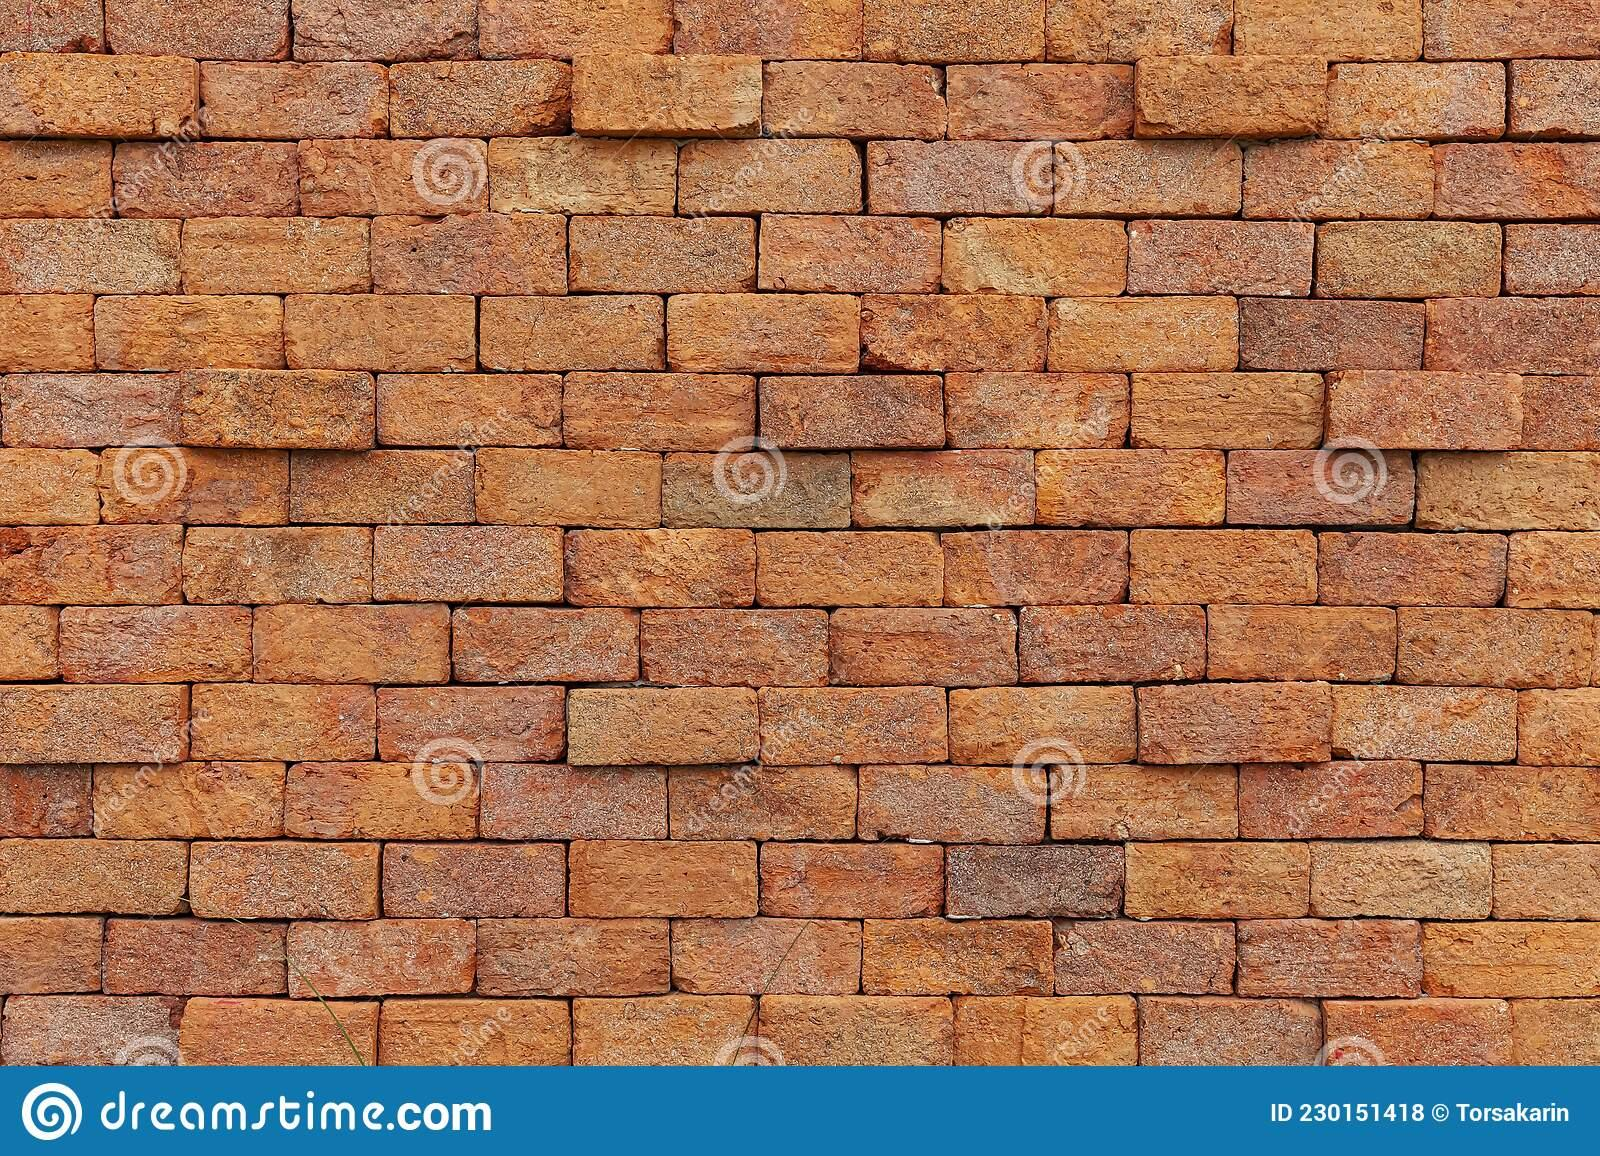brick: (1138, 678, 1330, 765), (1399, 608, 1599, 689), (252, 603, 448, 684), (371, 215, 566, 296), (0, 52, 195, 133), (1138, 55, 1328, 137), (568, 687, 759, 767), (1129, 373, 1325, 451), (563, 370, 755, 449), (476, 447, 662, 529), (1329, 371, 1523, 449), (179, 370, 370, 448), (757, 215, 942, 296), (58, 605, 252, 682), (476, 918, 670, 995), (489, 137, 677, 216), (571, 52, 761, 130), (1, 526, 183, 608), (831, 607, 1017, 687), (565, 528, 757, 605), (1239, 919, 1424, 998), (286, 294, 473, 373), (642, 610, 830, 688), (481, 762, 668, 841), (1243, 142, 1434, 219), (858, 293, 1048, 370), (670, 294, 860, 371), (1036, 449, 1226, 526), (759, 687, 949, 764), (199, 61, 389, 138), (1048, 296, 1237, 373), (374, 525, 563, 602), (1318, 531, 1507, 608), (1206, 605, 1395, 682), (287, 920, 476, 997), (93, 761, 284, 837), (863, 920, 1055, 996), (183, 217, 370, 294), (99, 448, 287, 525), (183, 528, 373, 603), (943, 217, 1127, 296), (943, 530, 1129, 607), (1019, 605, 1205, 682), (570, 841, 757, 918), (298, 140, 487, 216), (287, 762, 476, 838), (858, 766, 1047, 842), (94, 294, 282, 370), (950, 687, 1138, 762), (1416, 451, 1600, 528), (764, 61, 948, 138), (1316, 221, 1502, 297), (0, 839, 186, 915), (945, 66, 1134, 140), (662, 453, 851, 528), (1128, 530, 1317, 605), (190, 843, 379, 918), (570, 216, 755, 292), (481, 294, 666, 370), (1, 685, 180, 764), (673, 921, 861, 996), (945, 373, 1129, 448), (1332, 684, 1516, 760), (668, 767, 858, 841), (1128, 220, 1314, 294), (452, 607, 639, 682), (678, 138, 861, 214), (1241, 761, 1424, 837), (1426, 297, 1600, 376), (1240, 297, 1425, 371), (288, 449, 473, 524), (1124, 843, 1309, 918), (378, 687, 565, 760), (0, 219, 181, 294), (190, 685, 374, 760), (1227, 451, 1414, 524), (757, 531, 943, 605), (760, 843, 943, 918), (114, 143, 299, 216), (853, 449, 1035, 524), (761, 376, 945, 449), (1327, 62, 1504, 138), (1055, 142, 1241, 214), (1311, 843, 1491, 918), (1056, 921, 1236, 996), (1053, 766, 1236, 839), (867, 142, 1052, 214), (1427, 762, 1600, 839), (390, 60, 568, 134), (384, 843, 564, 916), (378, 374, 564, 445), (954, 995, 1137, 1067), (0, 373, 179, 446), (103, 920, 282, 993), (1425, 921, 1600, 996), (759, 997, 953, 1064), (2, 996, 185, 1065), (948, 846, 1125, 916), (1139, 998, 1323, 1067), (380, 1000, 571, 1064), (180, 1003, 374, 1067), (1436, 142, 1600, 216), (575, 997, 757, 1064), (1325, 1001, 1511, 1065), (478, 0, 675, 58), (1048, 0, 1232, 62), (292, 0, 476, 61), (1235, 0, 1422, 60), (675, 0, 862, 60), (103, 1, 288, 61), (863, 0, 1045, 60), (1422, 0, 1600, 57), (0, 142, 112, 216), (1492, 844, 1600, 918), (0, 918, 102, 993), (0, 448, 99, 523), (0, 296, 96, 370), (1506, 531, 1600, 606), (1509, 61, 1600, 134), (1506, 224, 1600, 293), (1, 766, 92, 836), (1519, 689, 1600, 764), (1511, 1000, 1599, 1064), (0, 1, 106, 55), (1524, 376, 1600, 449), (1, 605, 57, 679)
